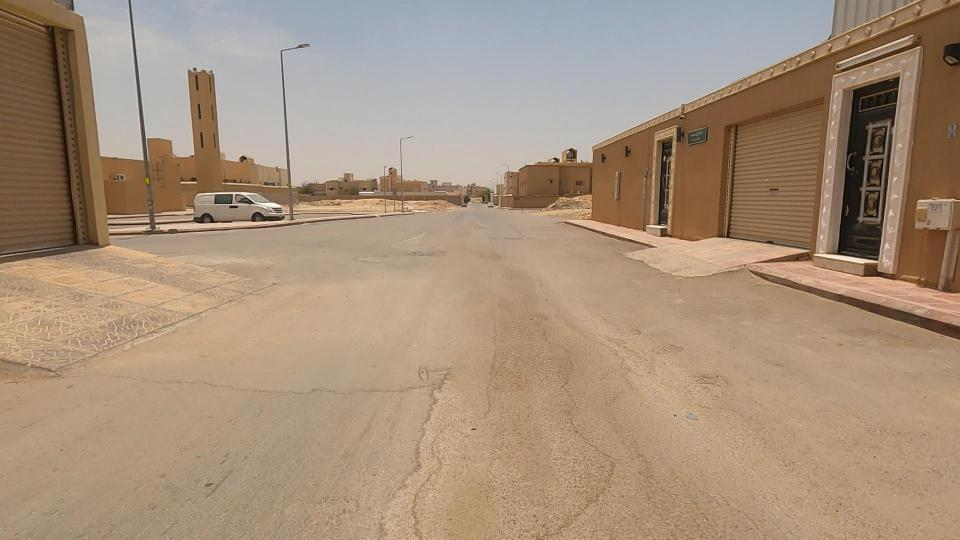POTHOLES: (331, 287, 530, 540)
